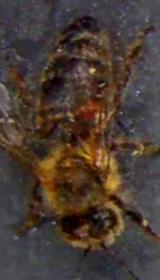varroa_mite: (72, 92, 108, 126)
